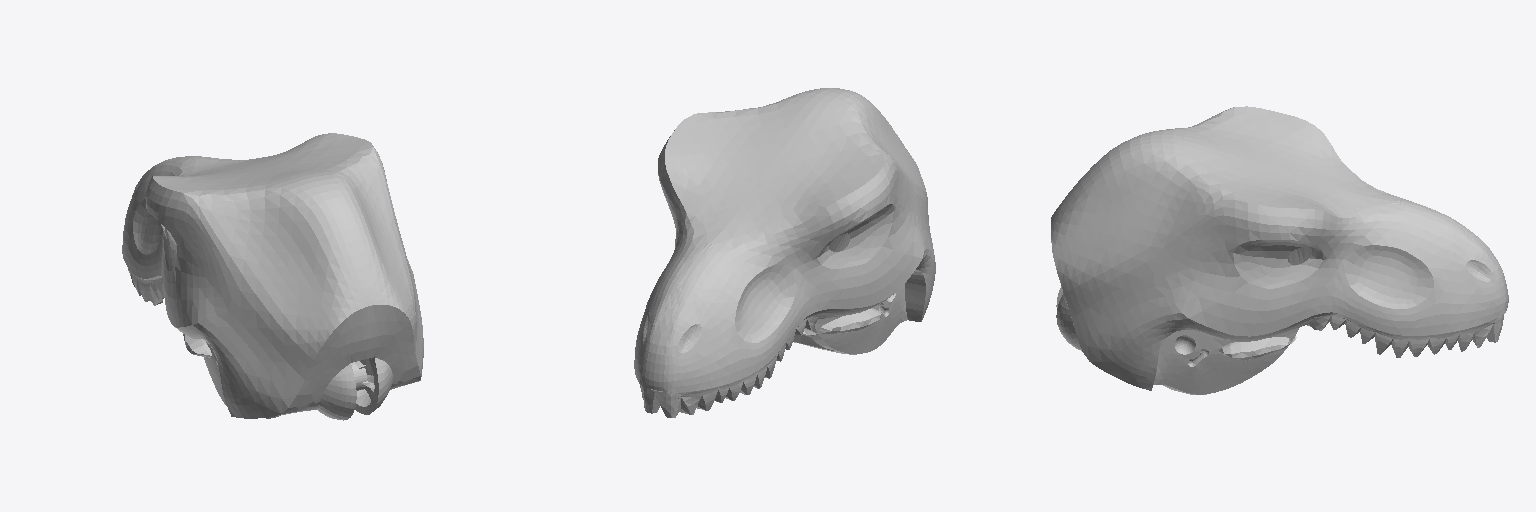
The model's file is Cabeza.obj.
3 renders of one model, left to right at view 1: azimuth 30°, elevation 25°; view 2: azimuth 150°, elevation 25°; view 3: azimuth 270°, elevation 25°, orthographic.
Visible parts, largest first — view 1: polySurface58; view 2: polySurface58; view 3: polySurface58.
Part boxes in pixels (bbox=[...]): polySurface58: bbox=[122, 133, 423, 420]; polySurface58: bbox=[634, 88, 935, 417]; polySurface58: bbox=[1051, 106, 1508, 394].
Bounding box in the file's own units: 1.82 × 1.87 × 3.3.